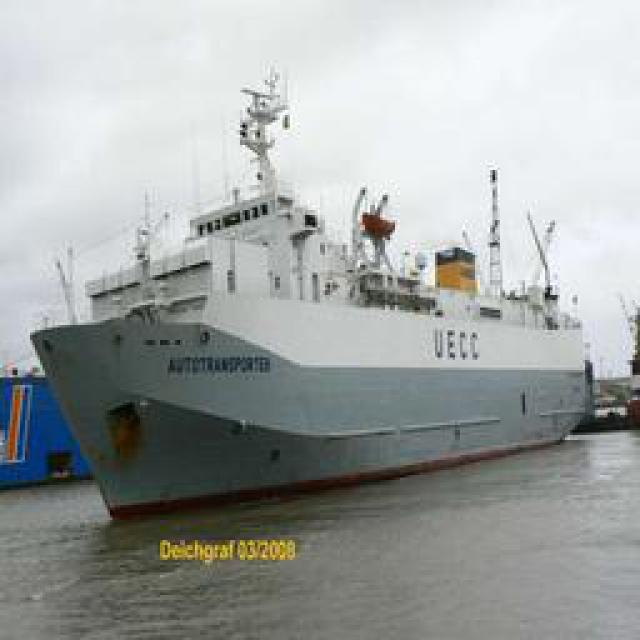Ship: (40, 169, 603, 519)
